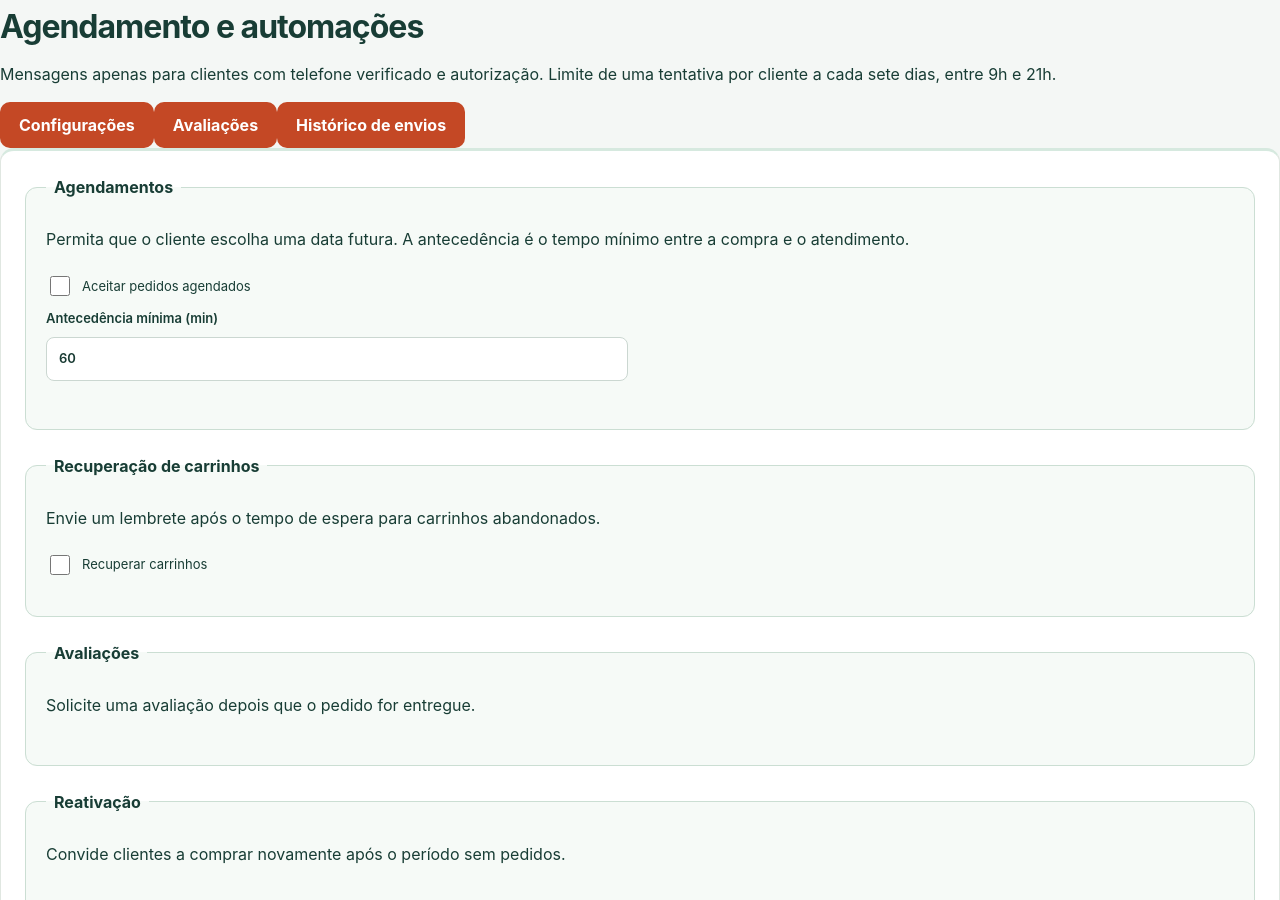
allows handling a poor review
Later steps or results of the test are not shown.
Step 1. Click the tab "Avaliações" → (215,125), box [154,102,277,148]
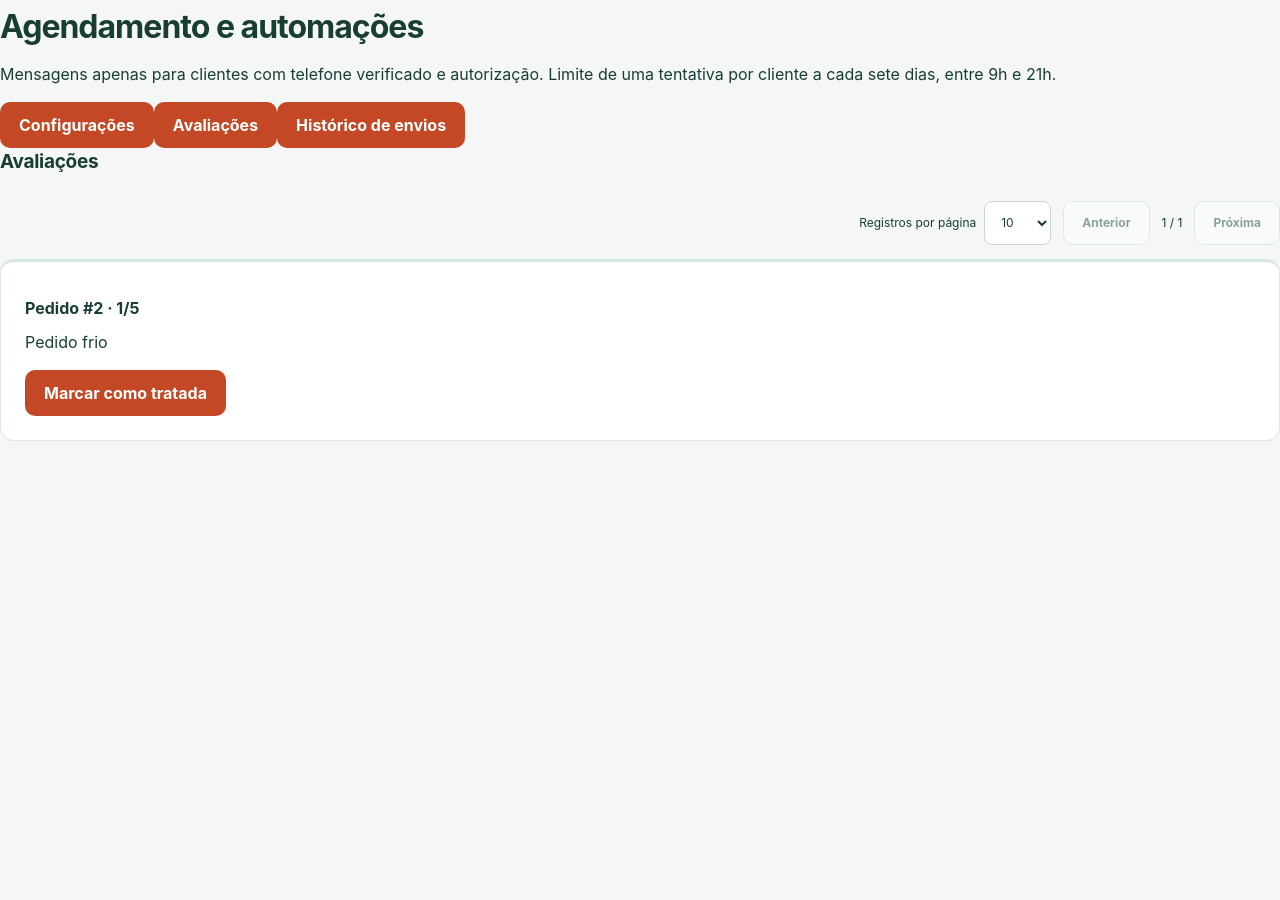
Expected: the text "Pedido frio" is shown, [25,332,108,352]
